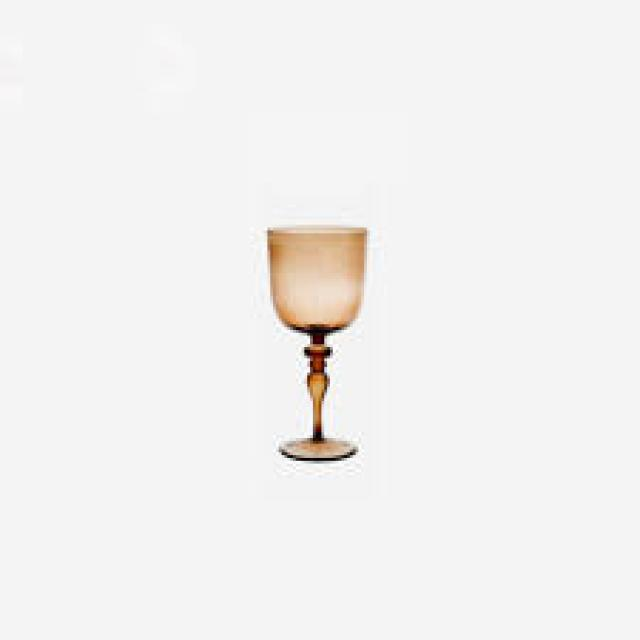glass: (265, 222, 364, 458)
